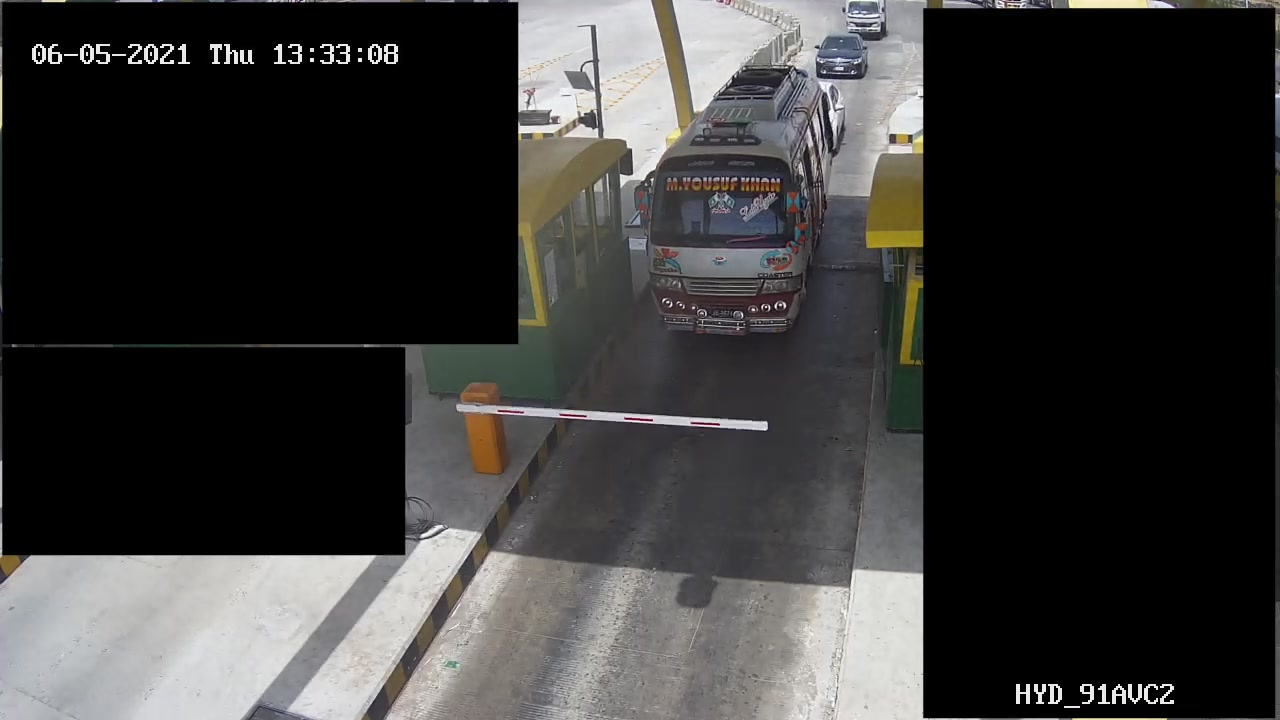F4: (633, 61, 833, 349)
